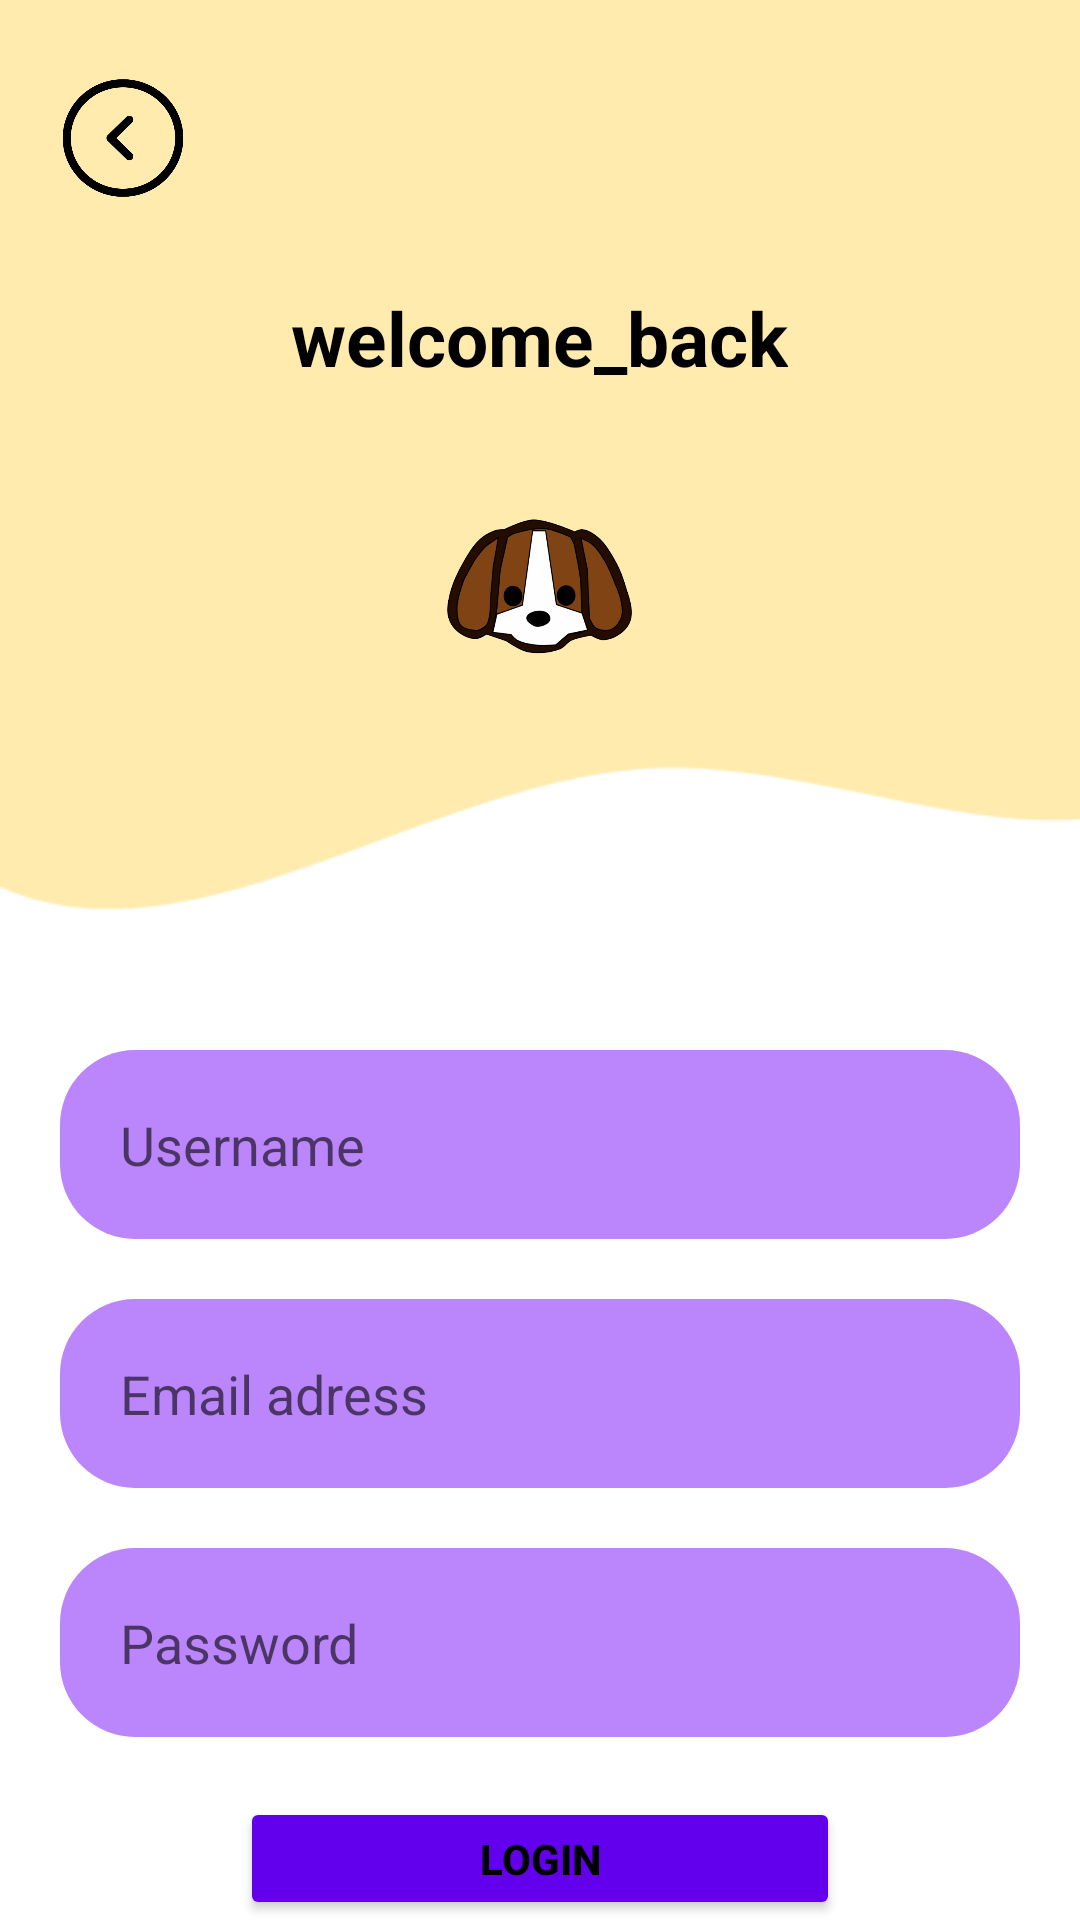

Where to tap for icons on this 1080x1920 app screen, as [x,y]:
assetdog: [539,586]
